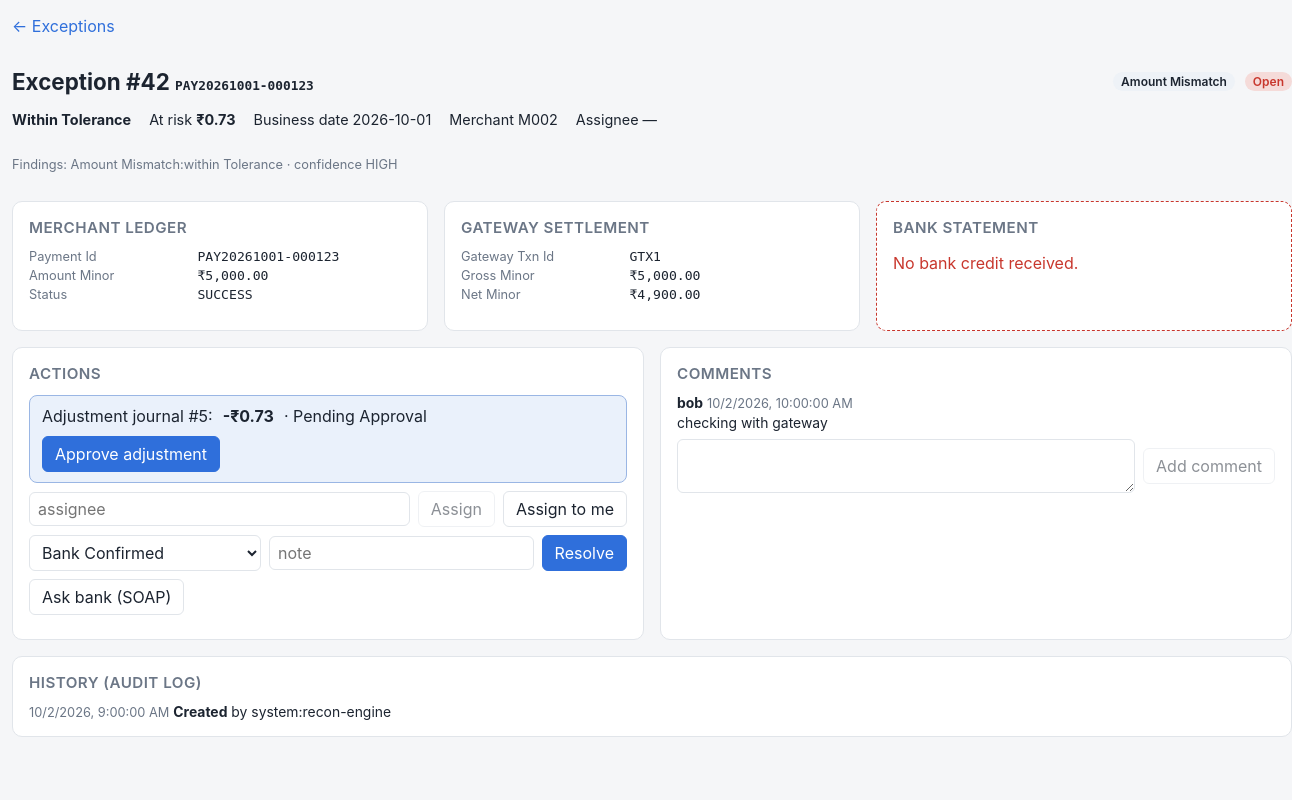
ExceptionDetailPage › approves as supervisor and reloads
Click the button "Approve adjustment". click: (131, 454)
box: [42,436,220,472]
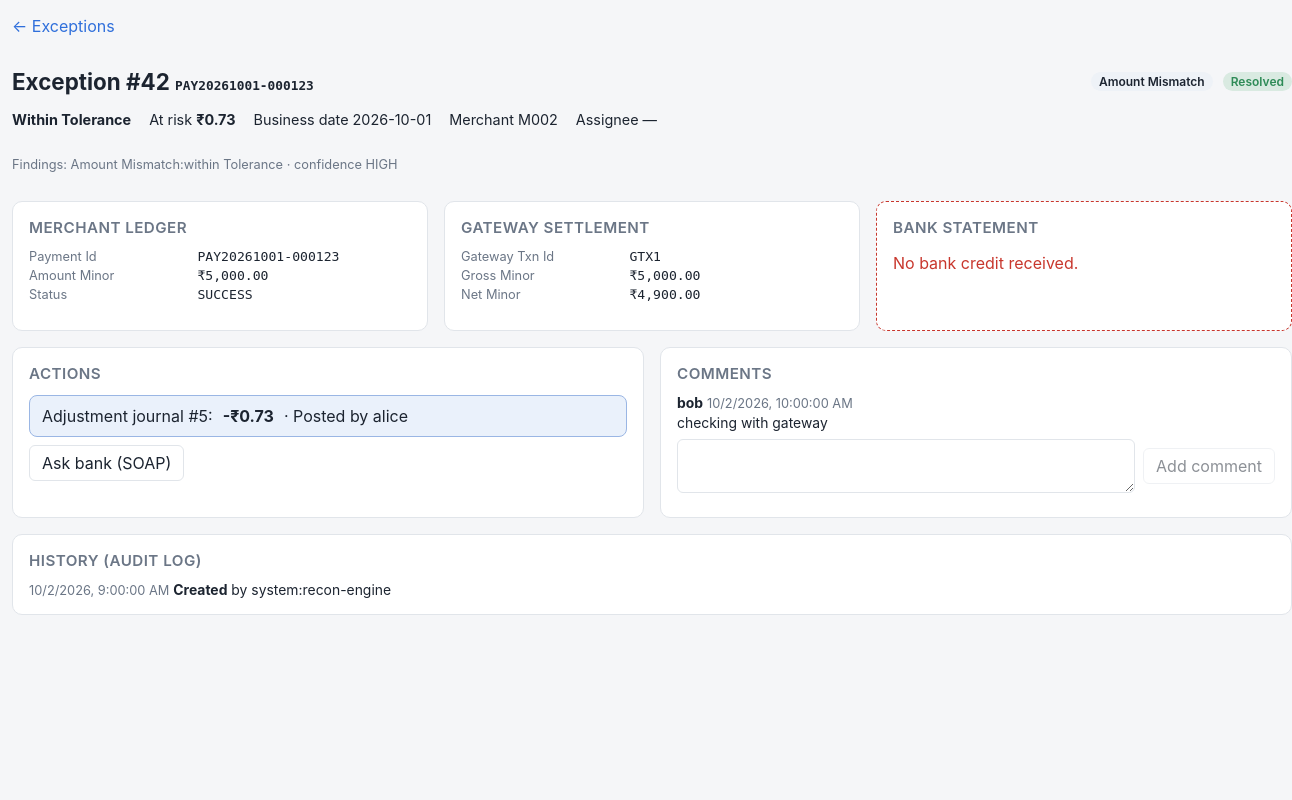
Check: the text "Adjustment journal #5: -₹0.73 · Posted by alice" is shown, box [29,395,627,437]
